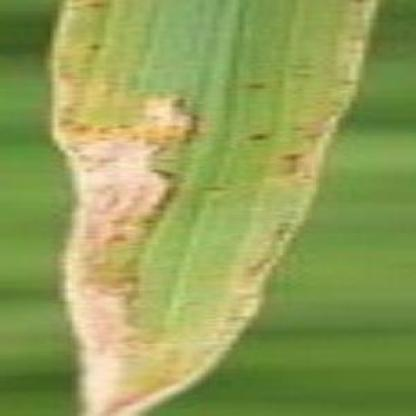Blight: (49, 81, 205, 416)
